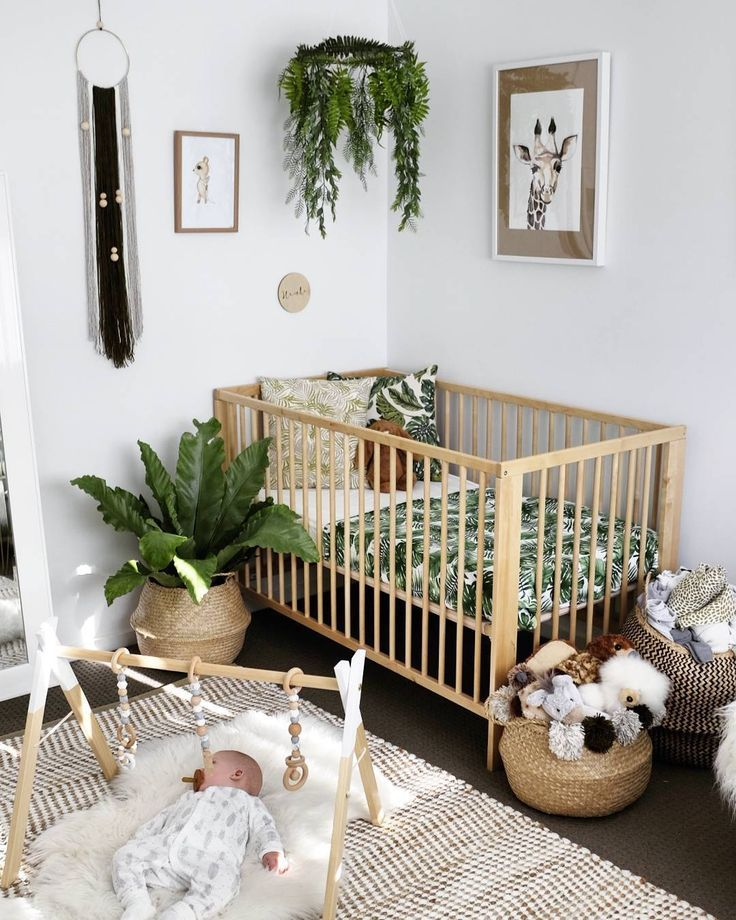crib: (212, 367, 680, 772)
